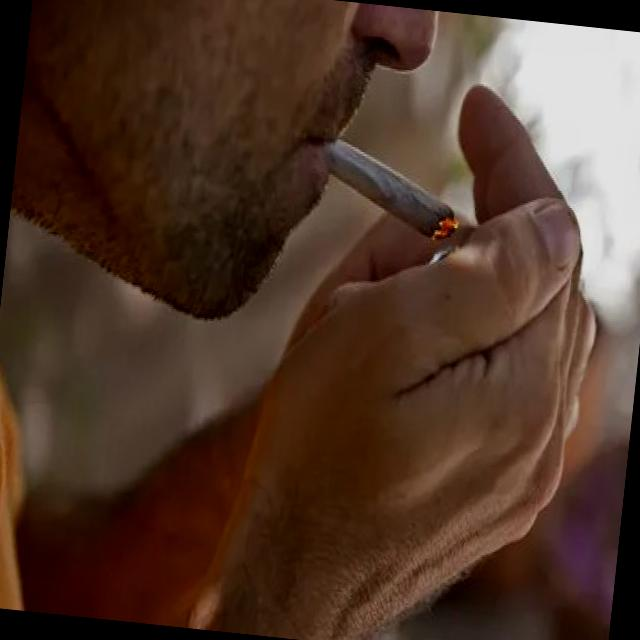cigarette: (312, 127, 468, 246)
